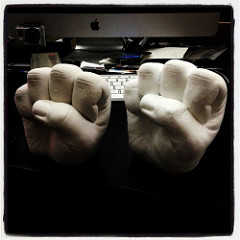fist: (125, 61, 213, 178), (20, 66, 110, 177)
